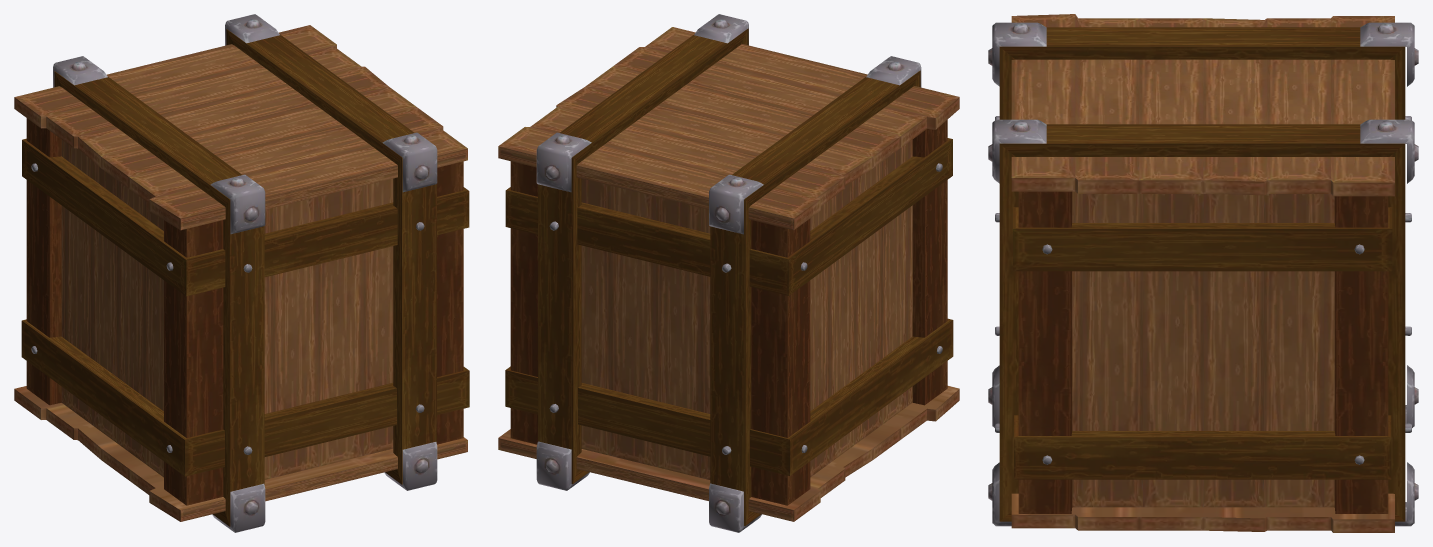
File: crate.glb
3 views of the same model, side by side, from view 1: azimuth 30°, elevation 25°; view 2: azimuth 150°, elevation 25°; view 3: azimuth 270°, elevation 25° (orthographic). The views are drawn at different scales.
Parts seen in each view (by area): view 1: Crate_Wooden; view 2: Crate_Wooden; view 3: Crate_Wooden.
Part boxes in pixels (bbox=[...]): Crate_Wooden: bbox=[14, 14, 469, 532]; Crate_Wooden: bbox=[498, 14, 959, 532]; Crate_Wooden: bbox=[988, 14, 1418, 532].
Size of the model in its own units: 0.8423 by 0.9309 by 0.9083.
Materials: 2 (2 with a texture image).
